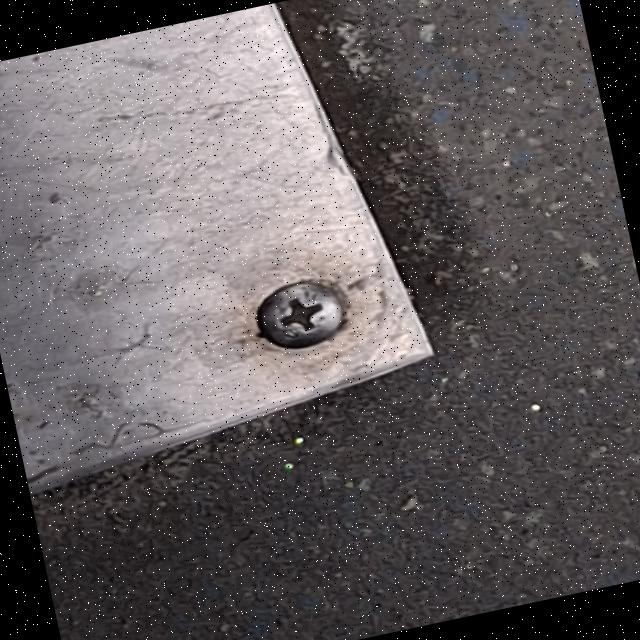Phillips: (236, 252, 370, 376)
